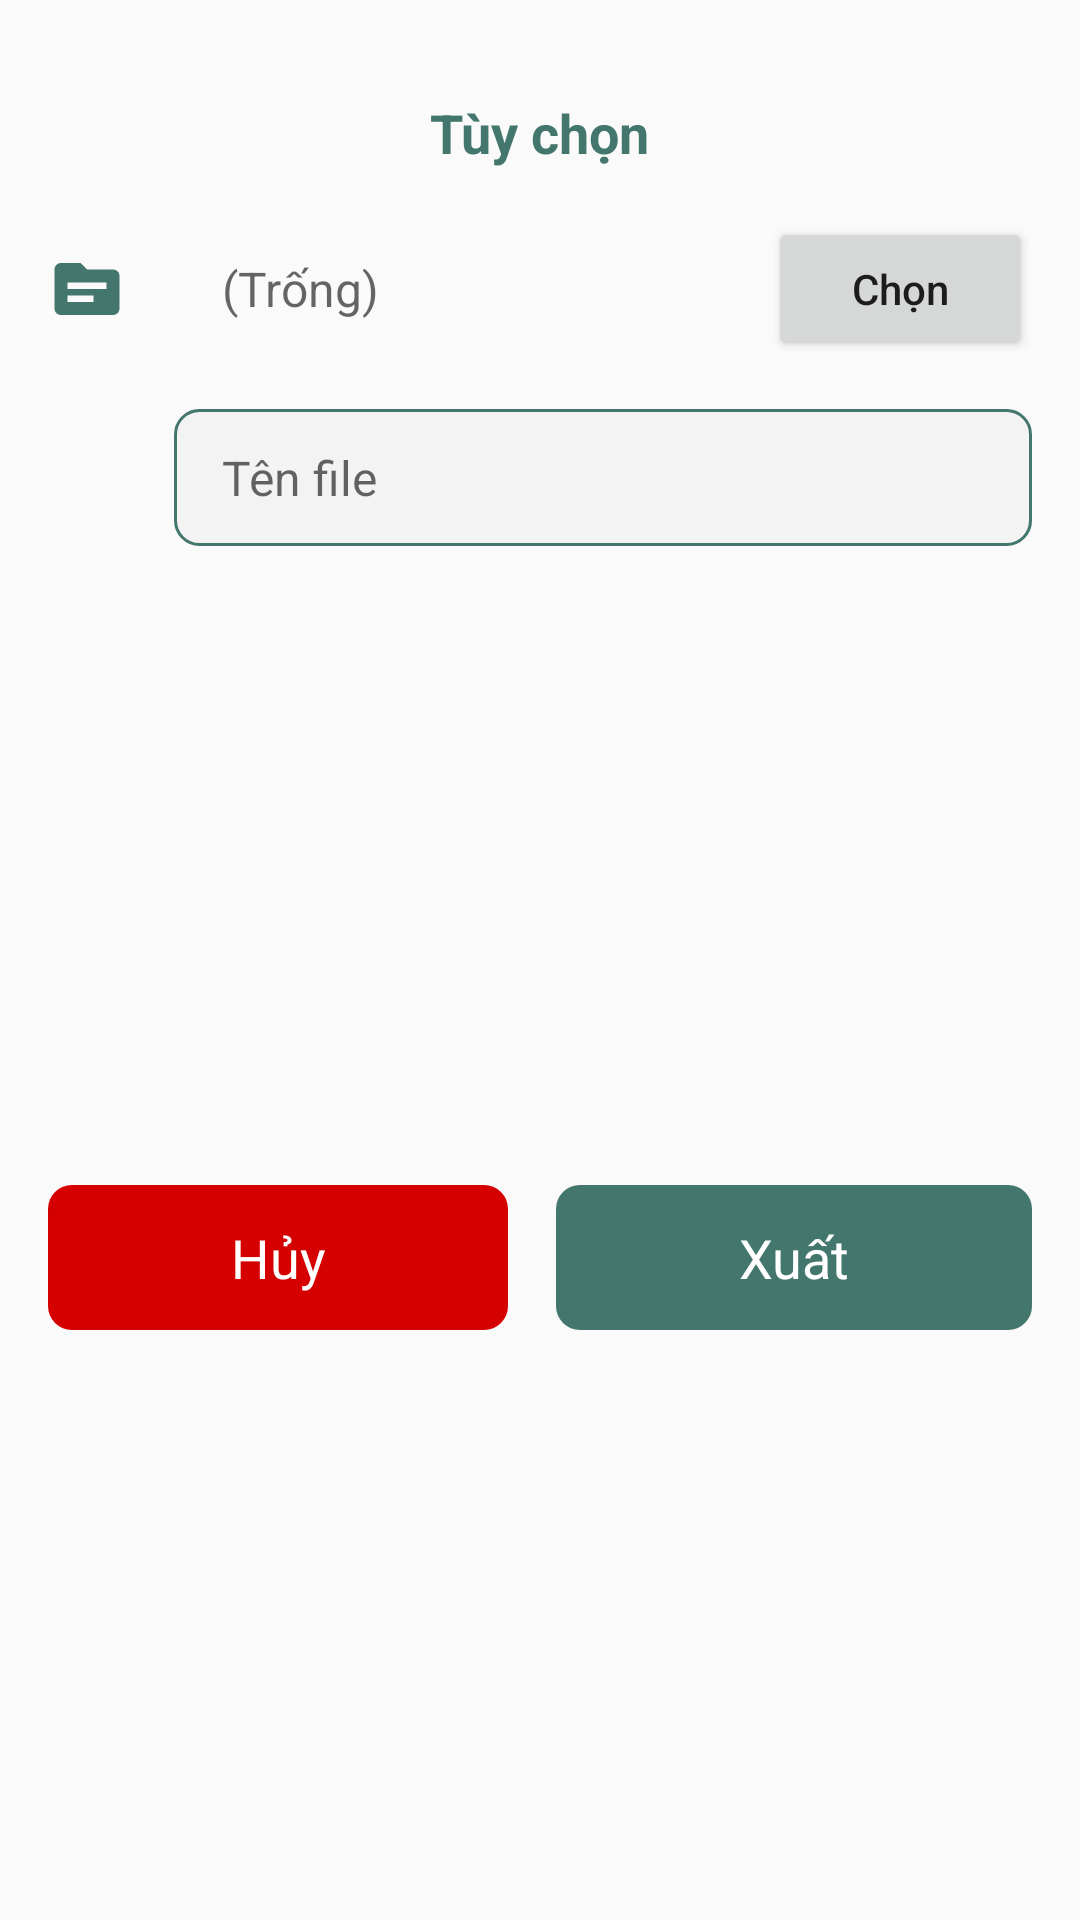

Named icons in this screenshot (1080×1920) and their centers, (x,y):
source: (87,289)
